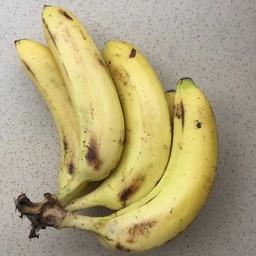Banana Ripe: (54, 67, 231, 256), (70, 26, 170, 237), (40, 10, 127, 223), (11, 31, 91, 232)
